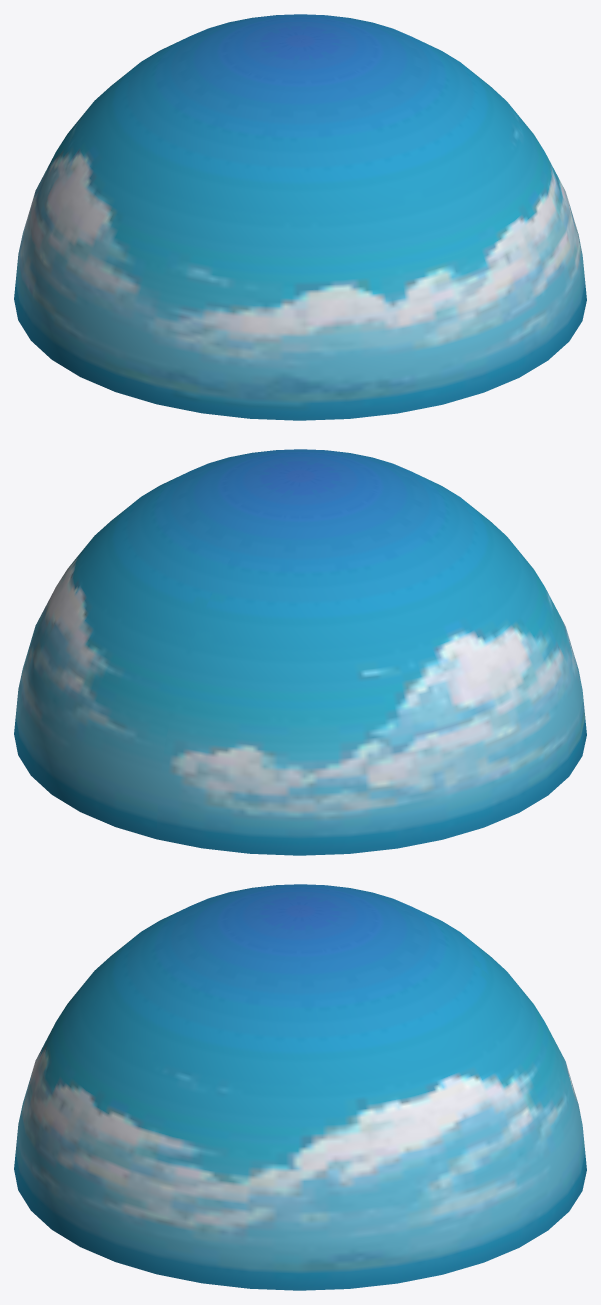
The model's file is skybox_02.FBX.
The picture shows the model from 3 angles, top to bottom: view 1: azimuth 30°, elevation 25°; view 2: azimuth 150°, elevation 25°; view 3: azimuth 270°, elevation 25°; orthographic projection.
Visible parts, largest first — view 1: skybox02; view 2: skybox02; view 3: skybox02.
Boxes of the visible parts, left/top/right/bottom form: skybox02: left=14, top=14, right=586, bottom=420; skybox02: left=14, top=449, right=586, bottom=855; skybox02: left=14, top=884, right=586, bottom=1290.
Size of the model in its own units: 2111 by 1055 by 2111.
1 material, 1 textured.
